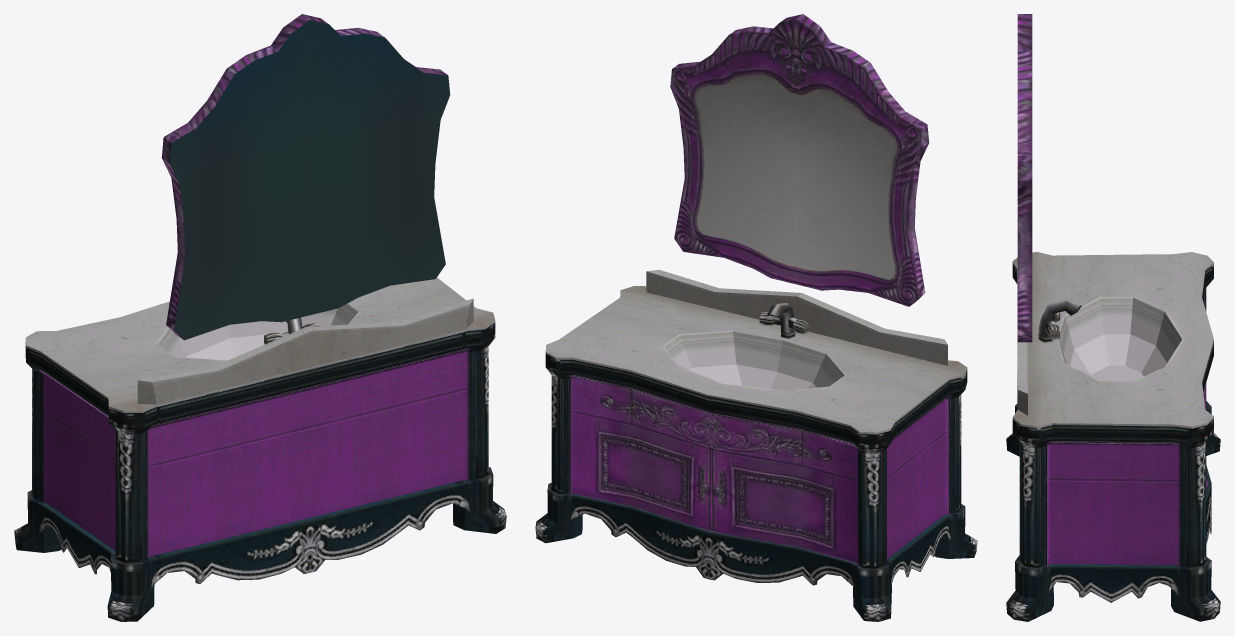
Rendered from furni_0201216_02.FBX.
3 views of the same model, side by side, from view 1: azimuth 30°, elevation 25°; view 2: azimuth 150°, elevation 25°; view 3: azimuth 270°, elevation 25° (orthographic). The views are drawn at different scales.
Visible parts, largest first — view 1: furni_0201216_02; view 2: furni_0201216_02; view 3: furni_0201216_02.
Boxes of the visible parts, x1,y1,x2,y2 form: furni_0201216_02: (14, 14, 506, 621); furni_0201216_02: (535, 14, 977, 621); furni_0201216_02: (1006, 14, 1220, 621).
Size of the model in its own units: 161 by 215 by 80.67.
